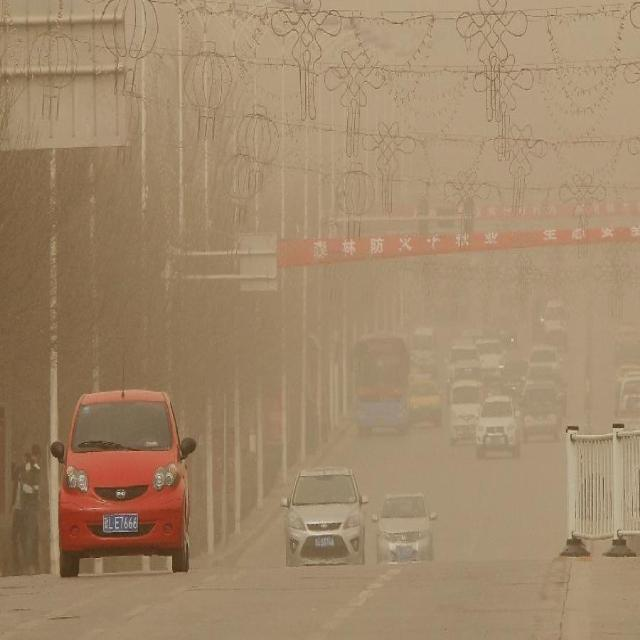Bus: (347, 329, 414, 438)
Car: (50, 388, 197, 580), (280, 465, 368, 566), (372, 490, 440, 565), (475, 392, 522, 460), (517, 377, 565, 438), (449, 378, 484, 446), (408, 375, 444, 426), (445, 344, 482, 388), (522, 343, 563, 378), (473, 336, 508, 369)
Van: (410, 324, 440, 374), (540, 298, 571, 346)
